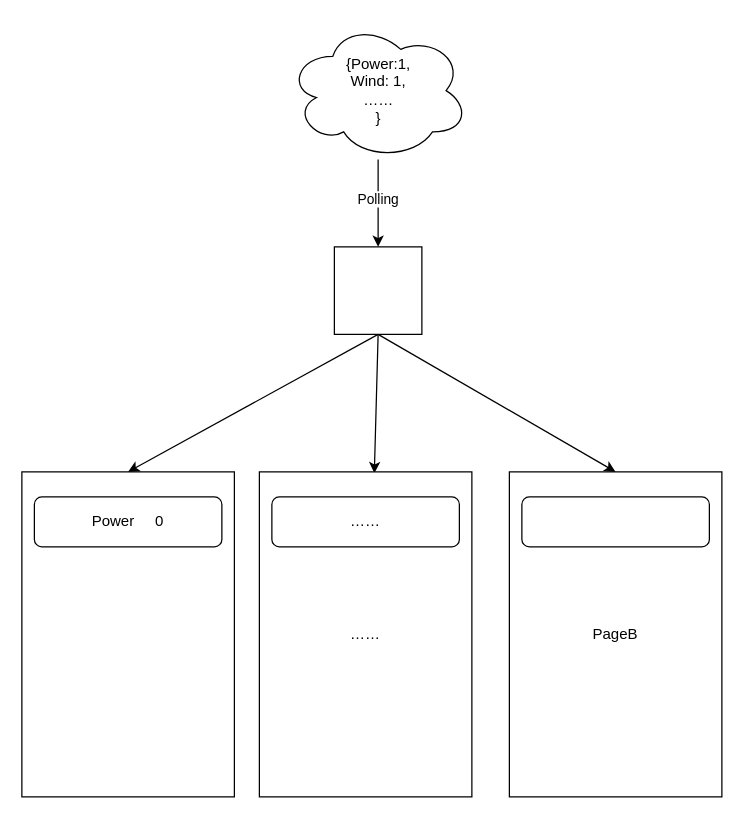
Some shapes in this 744 by 819 pixel diagram are drawn without their labels. Each missing label, with the box of its shape:
app.js: (333, 246, 422, 334)
PageA: (21, 471, 234, 797)
Wind 2: (521, 496, 709, 547)
